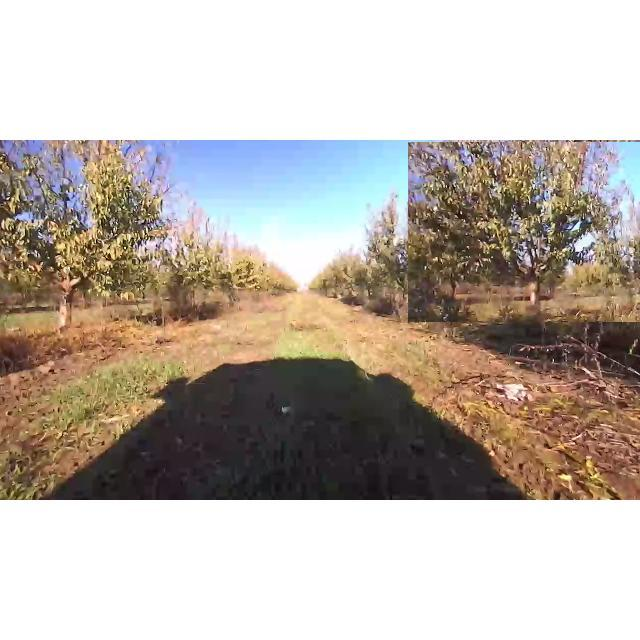direk: (408, 142, 640, 322), (0, 144, 184, 348), (360, 180, 458, 316), (143, 204, 239, 326)
